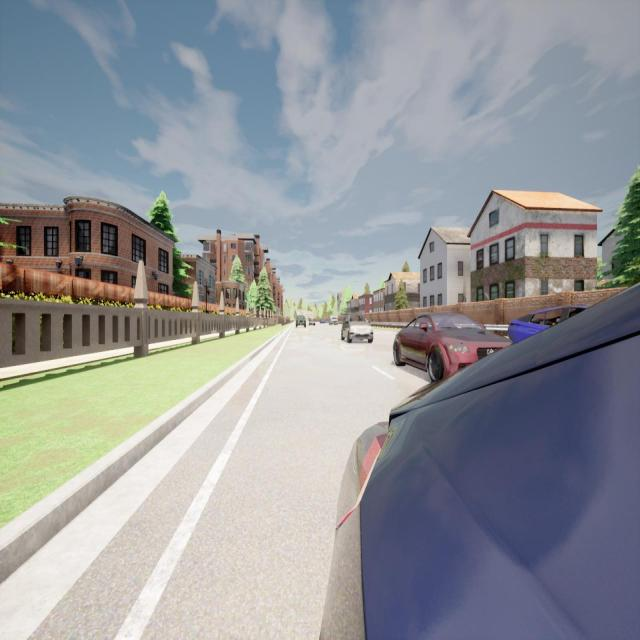Vehicle: (321, 286, 640, 640), (392, 308, 503, 381), (508, 304, 590, 346), (341, 313, 374, 342), (296, 315, 306, 328), (328, 315, 338, 325), (308, 318, 316, 327), (320, 319, 326, 323)
